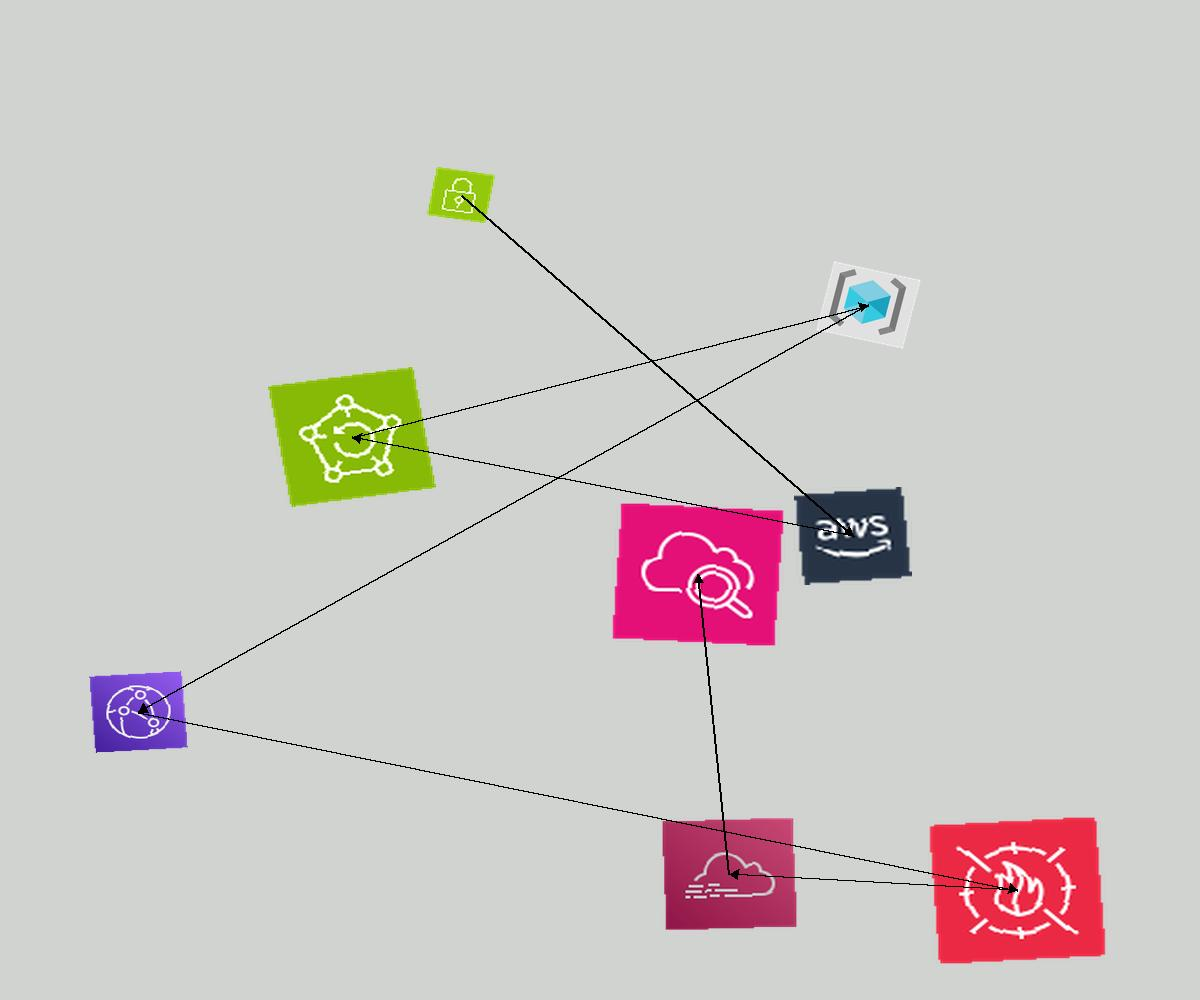AWS-Backup: (268, 367, 436, 507)
AWS-Cloud-logo: (794, 487, 912, 585)
AWS-CloudFront: (89, 671, 188, 753)
AWS-CloudTrail: (661, 817, 798, 931)
AWS-CloudWatch: (611, 502, 785, 647)
AWS-Public-subnet: (426, 166, 496, 224)
AWS-WAF: (928, 816, 1107, 965)
Azure_resource_group: (816, 261, 921, 349)
